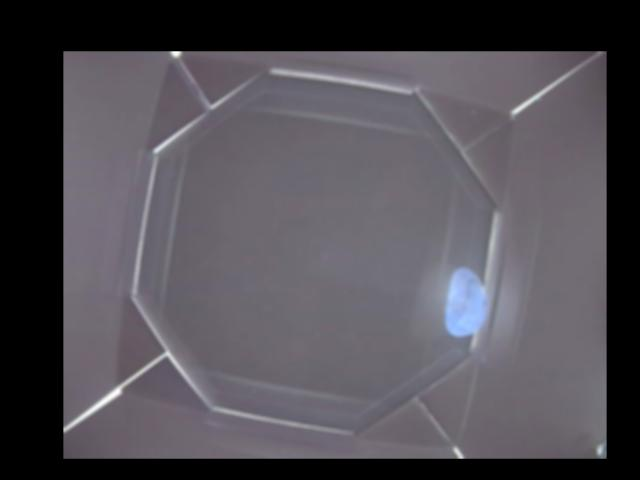Pebble: (447, 267, 491, 337)
